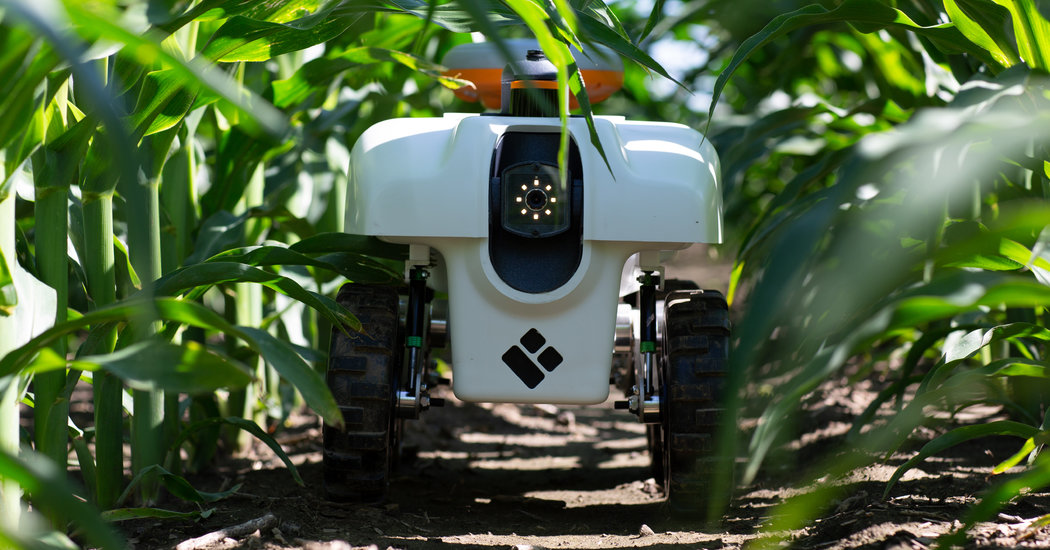robot: (300, 37, 751, 526)
